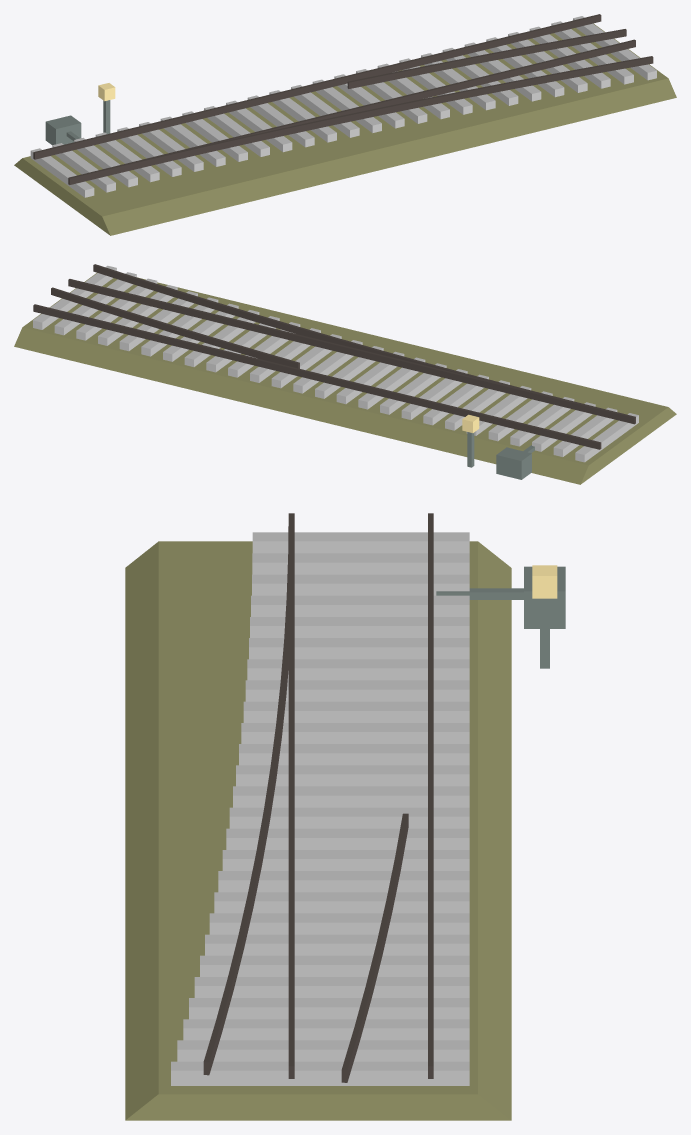
File: SM_Via_DesvioDer_v0_Hormigon_LOD0.fbx
3 views of the same model, one above another, from view 1: azimuth 30°, elevation 25°; view 2: azimuth 150°, elevation 25°; view 3: azimuth 270°, elevation 25° (orthographic). The views are drawn at different scales.
Visible parts, largest first — view 1: SM_via_trazado_v30_LOD0; view 2: SM_via_trazado_v30_LOD0; view 3: SM_via_trazado_v30_LOD0.
Boxes of the visible parts, <box> form: SM_via_trazado_v30_LOD0: <box>14,14,676,235</box>; SM_via_trazado_v30_LOD0: <box>14,264,676,484</box>; SM_via_trazado_v30_LOD0: <box>125,513,565,1120</box>.
Bounding box in the file's own units: 15.78 × 1.27 × 5.28.
